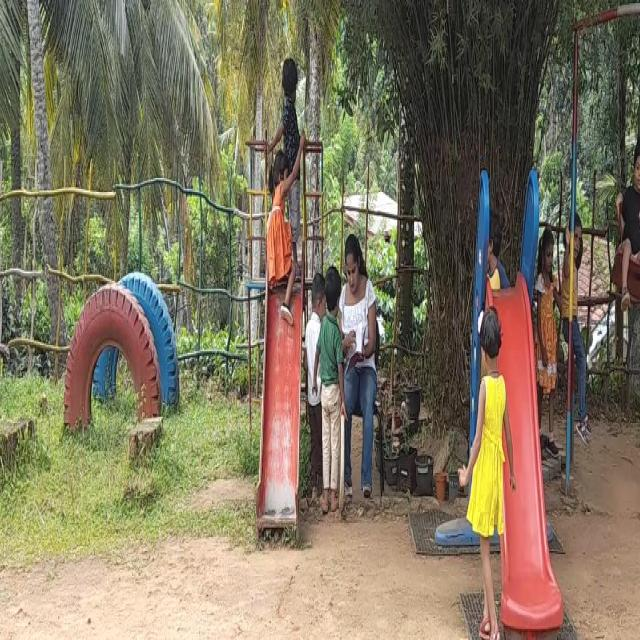adult: (341, 226, 379, 511)
child: (466, 296, 503, 640), (315, 261, 343, 498), (568, 197, 592, 443), (263, 143, 295, 321), (281, 53, 305, 253), (616, 131, 640, 311), (535, 216, 557, 412)
